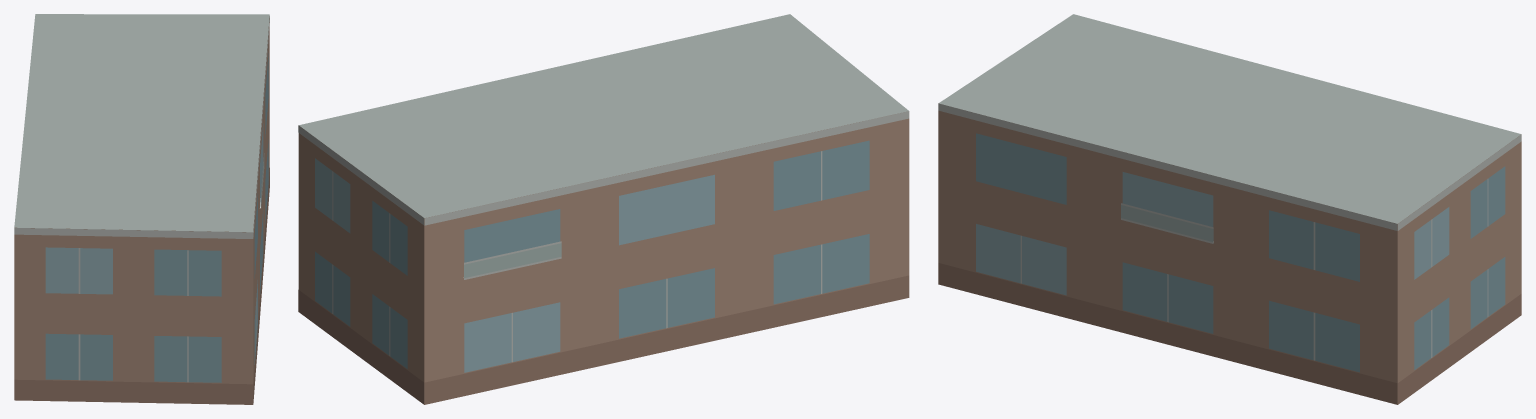
The model's file is survey-upis-32890698.glb.
3 renders of one model, left to right at view 1: azimuth 30°, elevation 25°; view 2: azimuth 150°, elevation 25°; view 3: azimuth 270°, elevation 25°, orthographic. The views are drawn at different scales.
Parts seen in each view (by area): view 1: survey-upis-32890698.tmp; view 2: survey-upis-32890698.tmp; view 3: survey-upis-32890698.tmp.
Part boxes in pixels (bbox=[...]): survey-upis-32890698.tmp: bbox=[14, 14, 269, 404]; survey-upis-32890698.tmp: bbox=[298, 14, 909, 404]; survey-upis-32890698.tmp: bbox=[938, 14, 1521, 404].
Size of the model in its own units: 15.18 by 6.1 by 17.82.
